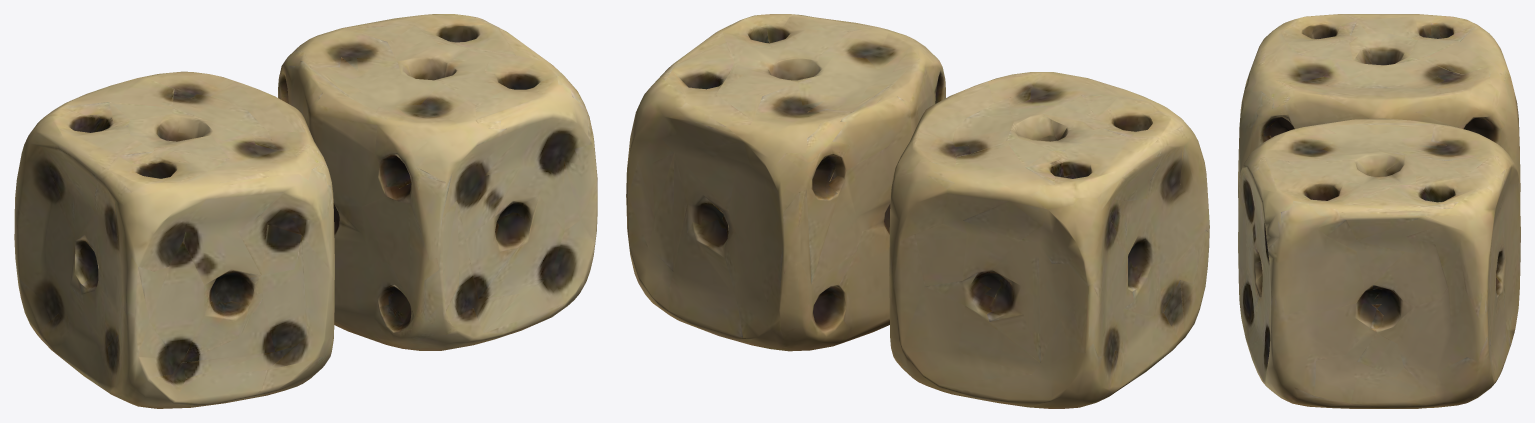
File: dice.glb
3 renders of one model, left to right at view 1: azimuth 30°, elevation 25°; view 2: azimuth 150°, elevation 25°; view 3: azimuth 270°, elevation 25°, orthographic. The views are drawn at different scales.
Parts seen in each view (by area): view 1: Mesh_0; view 2: Mesh_0; view 3: Mesh_0.
Boxes of the visible parts, <box> form: Mesh_0: <box>14,14,597,408</box>; Mesh_0: <box>626,14,1209,408</box>; Mesh_0: <box>1238,14,1520,408</box>.
Size of the model in its own units: 1.9 by 0.8773 by 1.09.
Materials: 1 (1 with a texture image).
